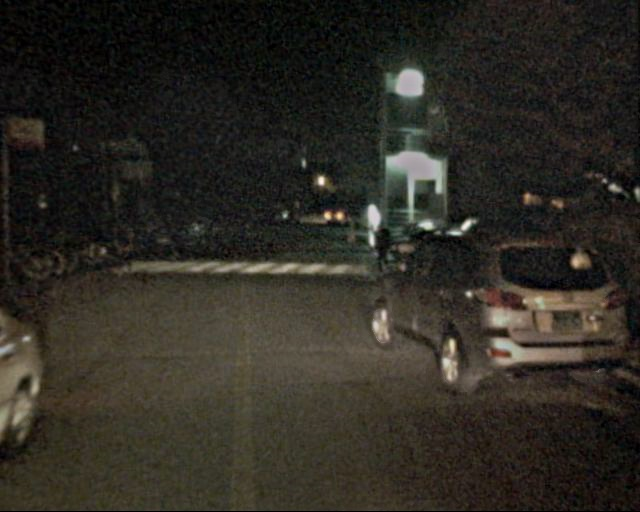person: (111, 212, 138, 277), (368, 220, 393, 281), (167, 216, 182, 260)
